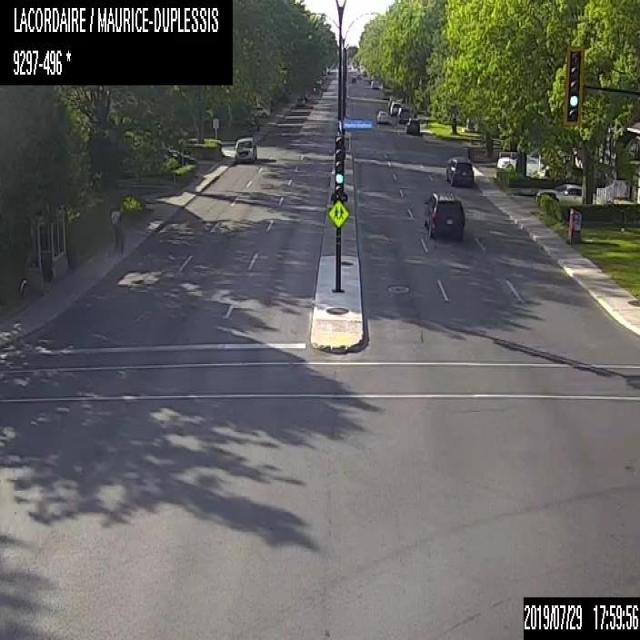pedestrian: (108, 202, 123, 250)
vehicle: (424, 188, 466, 237), (536, 182, 598, 205), (444, 154, 474, 187), (497, 154, 545, 173), (233, 134, 257, 162), (158, 148, 196, 165), (405, 117, 421, 133), (374, 108, 389, 124), (398, 106, 410, 122), (252, 106, 268, 118), (389, 100, 402, 114), (387, 96, 396, 110), (295, 94, 304, 106), (370, 77, 379, 88), (362, 69, 366, 76), (351, 75, 355, 82)
